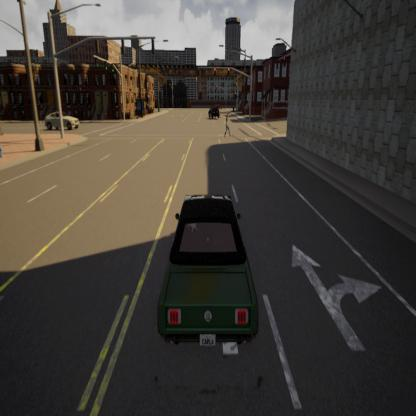Cars: (158, 194, 258, 358), (44, 111, 80, 133), (208, 101, 220, 121)
Pedestrian: (224, 110, 232, 141)
